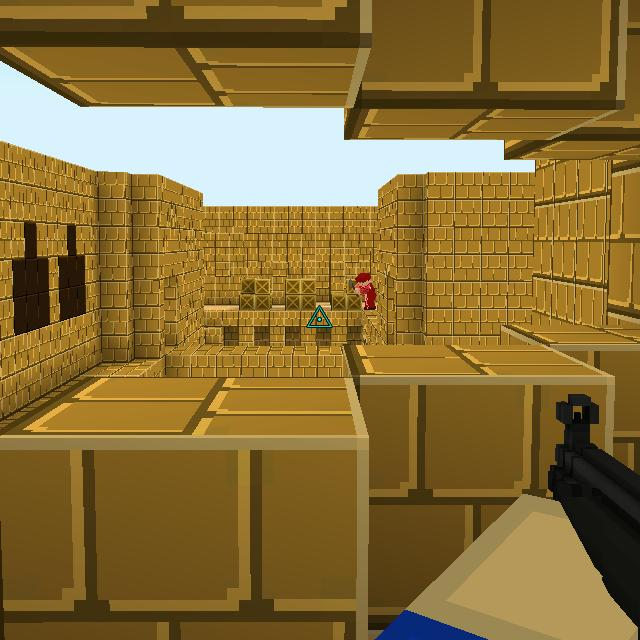enemy: (353, 270, 376, 311)
